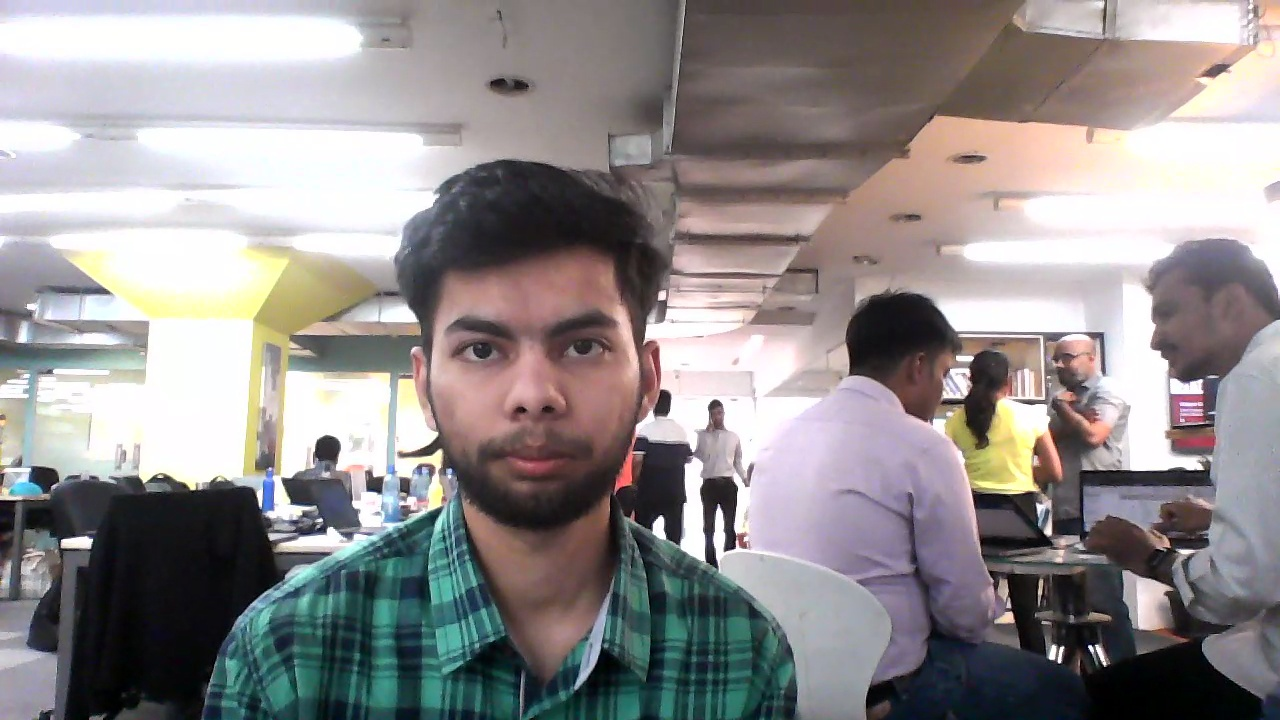open: (401, 161, 664, 523)
